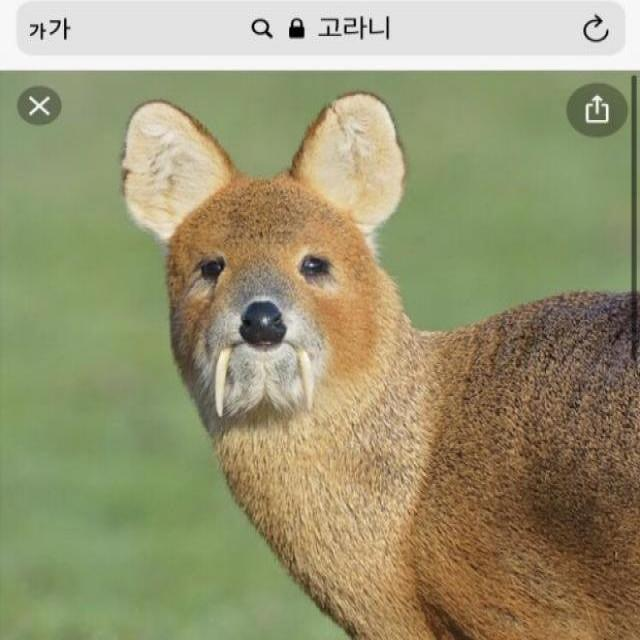deer: (99, 90, 640, 640)
